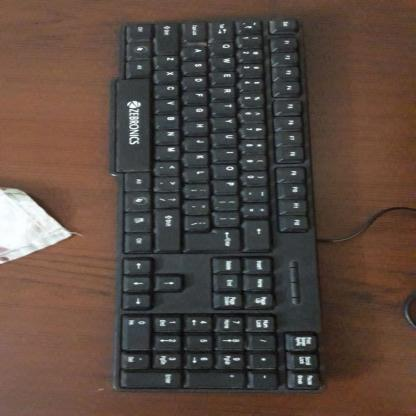mouse: (124, 25, 307, 393)
